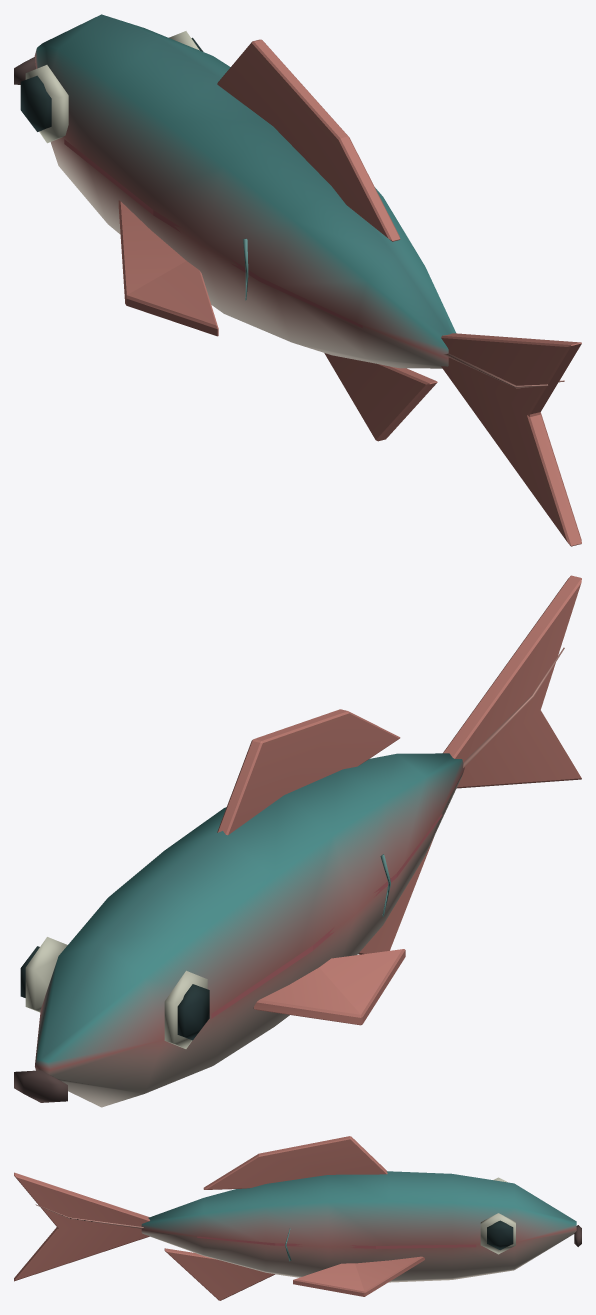
File: fish_pale_chub_low.glb
3 views of the same model, one above another, from view 1: azimuth 30°, elevation 25°; view 2: azimuth 150°, elevation 25°; view 3: azimuth 270°, elevation 25° (orthographic). The views are drawn at different scales.
Size of the model in its own units: 0.0354 by 0.0442 by 0.1399.
